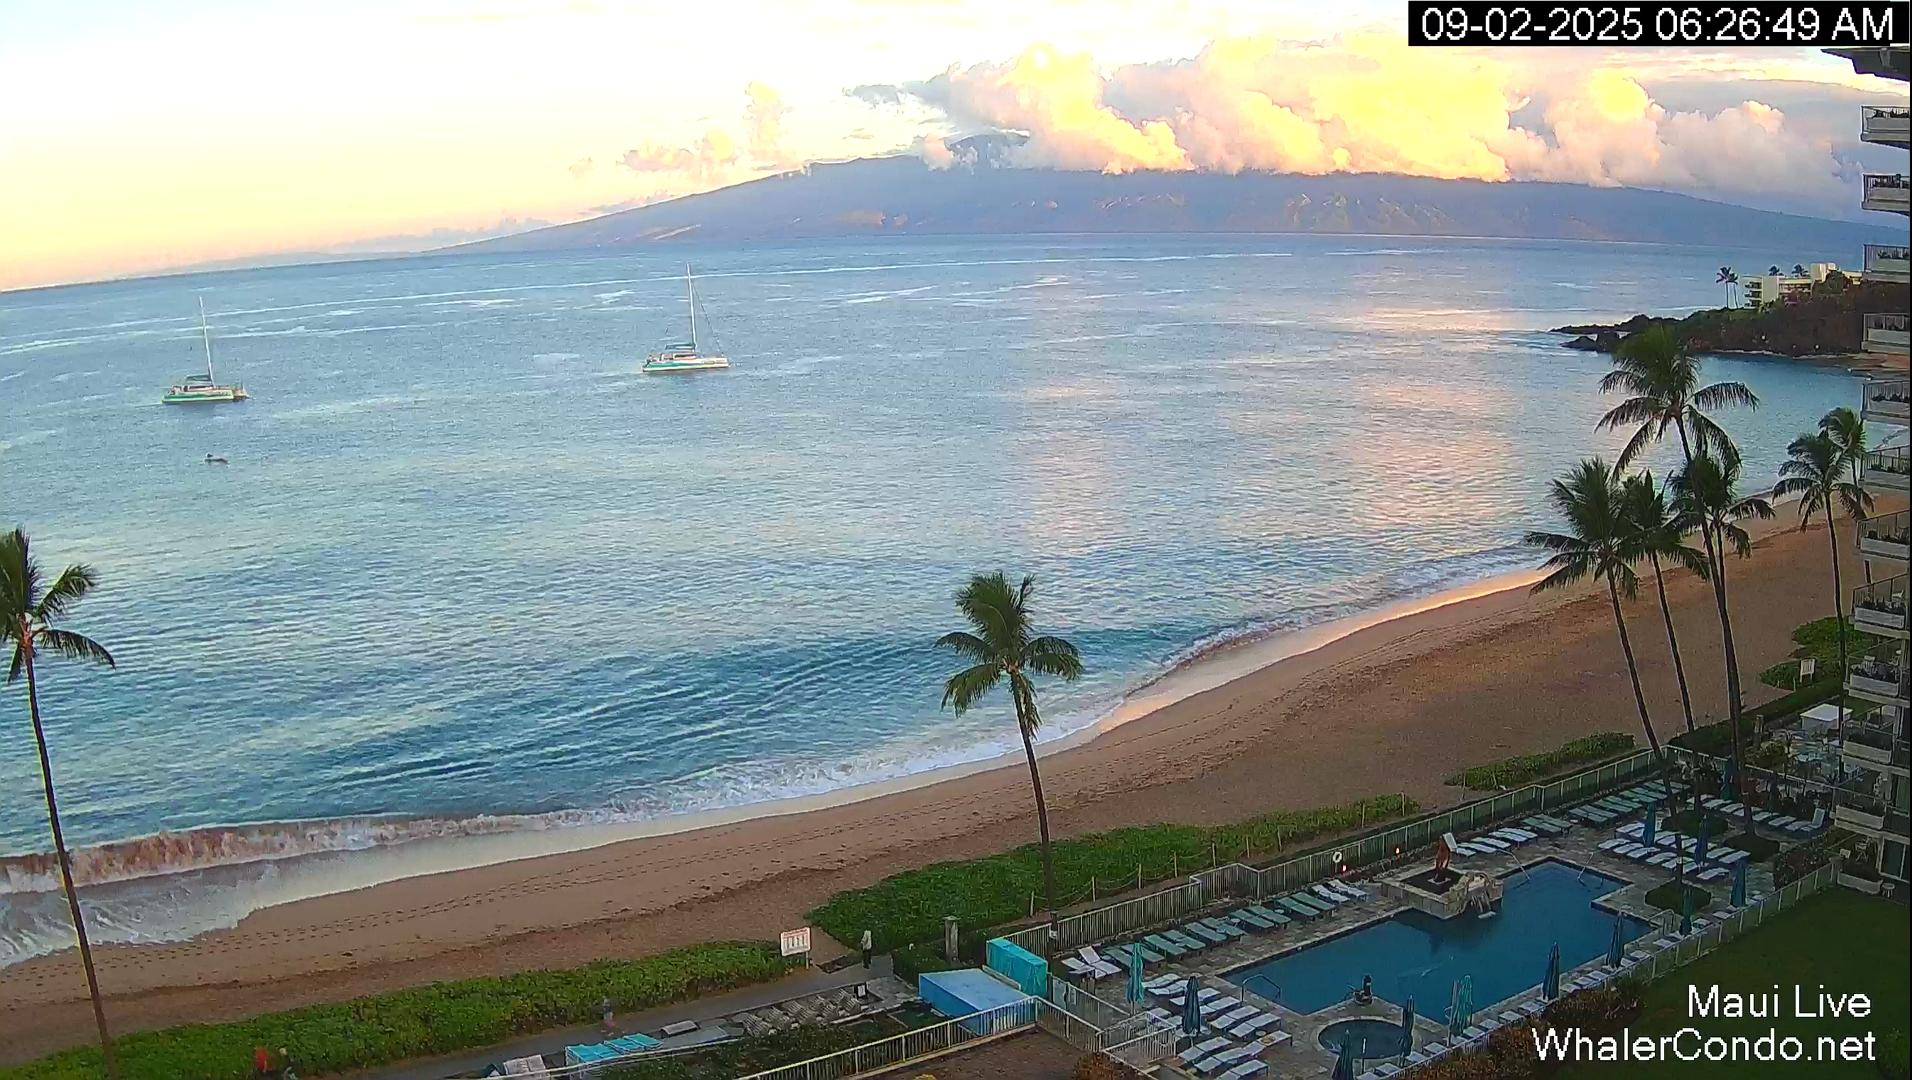boat: (642, 262, 730, 373), (161, 295, 250, 404), (205, 451, 231, 467)
person: (600, 993, 625, 1040), (253, 1042, 271, 1080), (280, 1044, 298, 1080), (860, 929, 872, 970), (1741, 688, 1749, 712)
